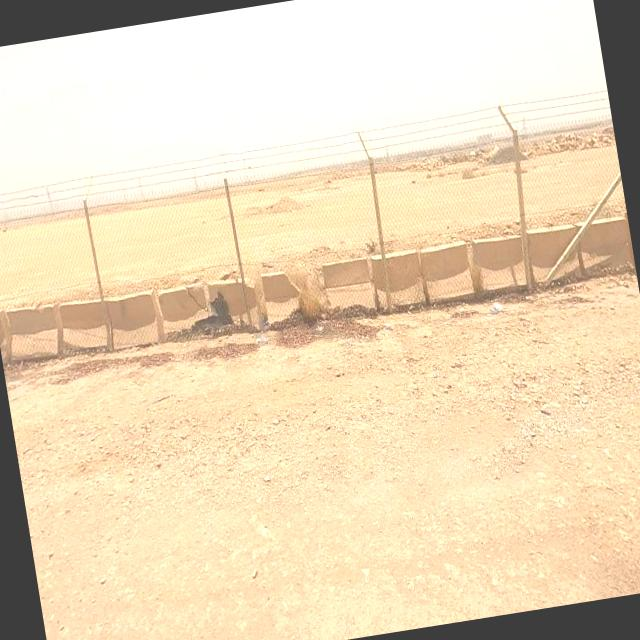debris: (458, 262, 530, 354), (184, 284, 260, 360), (230, 297, 300, 378)
